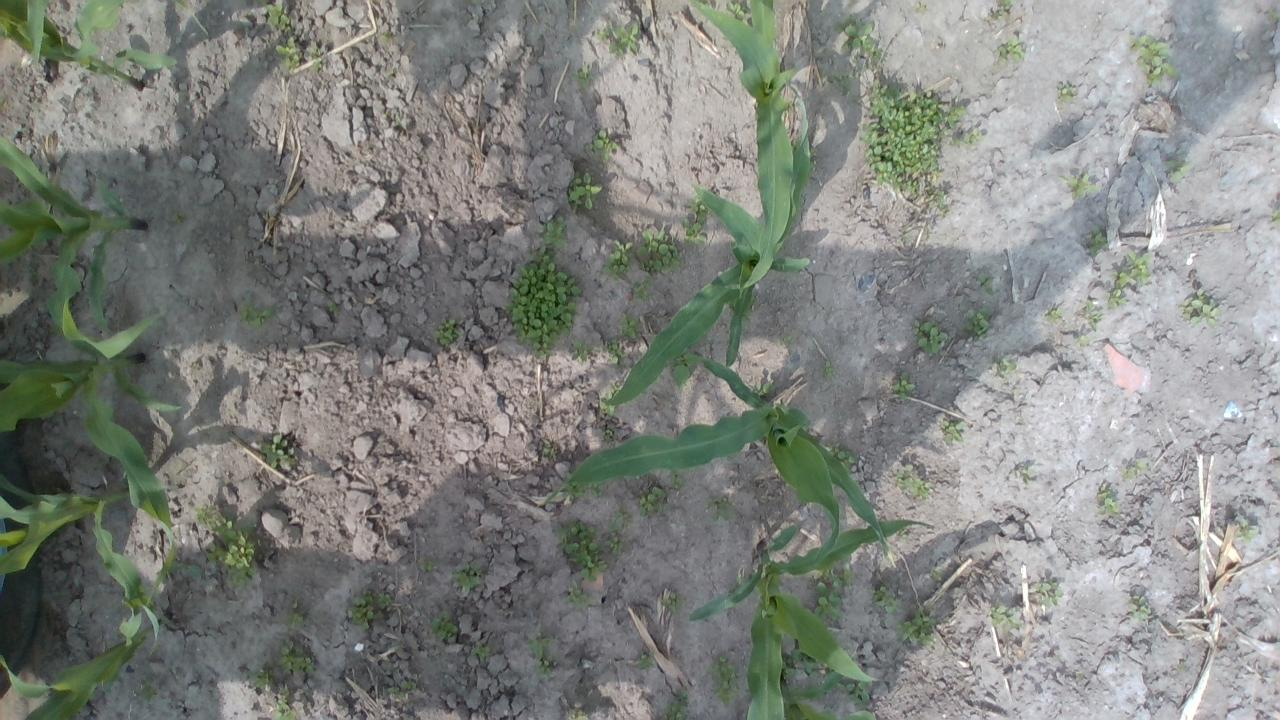Maize: (548, 349, 892, 568), (603, 91, 812, 408), (0, 241, 179, 594), (690, 517, 931, 720), (682, 0, 796, 286), (0, 137, 147, 347), (0, 476, 164, 642), (0, 0, 180, 93), (0, 624, 164, 720), (758, 665, 878, 720)
Weeds: (855, 73, 950, 218), (504, 246, 582, 356), (194, 502, 259, 592), (831, 12, 890, 67), (560, 519, 608, 583), (1108, 248, 1154, 308), (1128, 30, 1178, 82), (812, 568, 859, 622), (635, 226, 684, 275), (1177, 286, 1224, 328), (894, 604, 938, 648), (706, 654, 740, 706), (597, 20, 641, 58), (682, 192, 712, 247), (600, 240, 633, 288), (911, 317, 949, 358), (670, 346, 704, 390), (568, 170, 603, 212), (948, 104, 982, 147), (527, 631, 559, 675), (1058, 172, 1100, 204), (256, 0, 293, 35), (260, 434, 298, 468), (276, 642, 316, 674), (781, 650, 825, 679), (896, 463, 934, 496), (820, 440, 858, 473), (819, 61, 852, 98), (584, 128, 620, 160), (346, 592, 374, 632), (836, 679, 874, 708), (986, 601, 1024, 630), (238, 301, 272, 332), (276, 36, 301, 76), (992, 35, 1026, 64), (870, 584, 900, 616), (542, 214, 568, 250), (891, 371, 920, 403), (963, 307, 991, 340), (1029, 581, 1064, 607), (708, 494, 738, 524), (658, 691, 689, 720), (274, 685, 299, 720), (452, 564, 482, 592), (640, 486, 668, 514), (430, 614, 458, 642), (432, 318, 460, 346), (618, 310, 642, 342), (568, 482, 610, 500), (600, 382, 621, 418), (1085, 222, 1107, 256), (606, 337, 630, 368), (725, 0, 752, 27), (565, 583, 594, 608), (1164, 157, 1192, 182), (1095, 488, 1121, 514), (1083, 301, 1103, 333), (660, 592, 686, 616), (1128, 596, 1154, 620), (1234, 521, 1261, 544), (570, 337, 592, 365), (391, 677, 416, 701), (139, 678, 160, 706), (940, 419, 964, 443), (608, 510, 634, 532), (988, 0, 1018, 19), (171, 561, 203, 578), (574, 63, 594, 90), (250, 666, 274, 688), (631, 280, 653, 304), (1124, 462, 1148, 483), (994, 357, 1018, 377), (1056, 81, 1076, 105), (976, 272, 994, 298), (638, 651, 660, 672), (469, 642, 491, 663), (306, 44, 322, 71), (374, 592, 394, 608), (752, 384, 776, 397), (1020, 466, 1038, 483), (1044, 305, 1063, 321), (607, 538, 626, 554), (670, 470, 685, 490), (286, 612, 306, 626), (822, 359, 834, 378), (913, 1, 926, 18), (173, 211, 188, 225), (568, 710, 589, 720), (600, 428, 616, 441), (418, 558, 432, 572), (542, 446, 555, 461), (1078, 334, 1092, 346), (781, 334, 794, 346), (896, 528, 910, 539), (1271, 208, 1280, 224), (382, 30, 393, 42), (174, 0, 186, 10), (810, 145, 816, 165), (328, 302, 338, 312)
